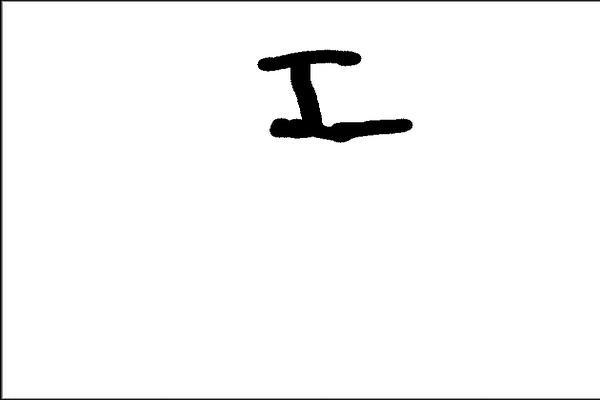i: (251, 36, 422, 156)
